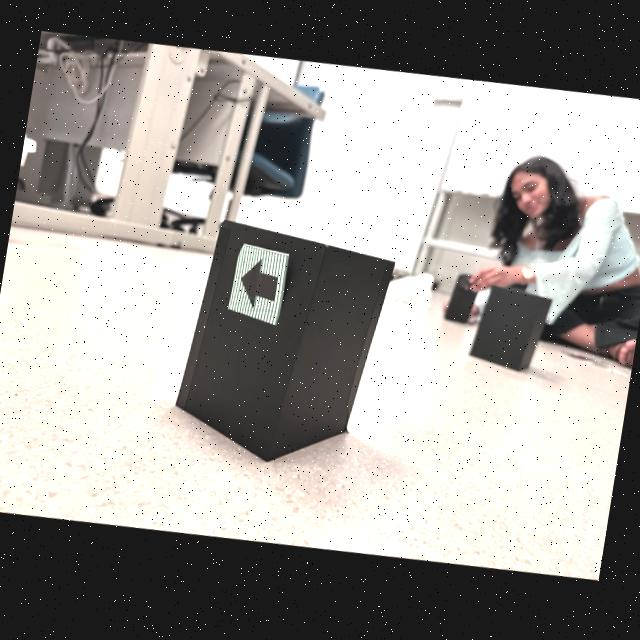LEFT: (241, 263, 277, 308)
